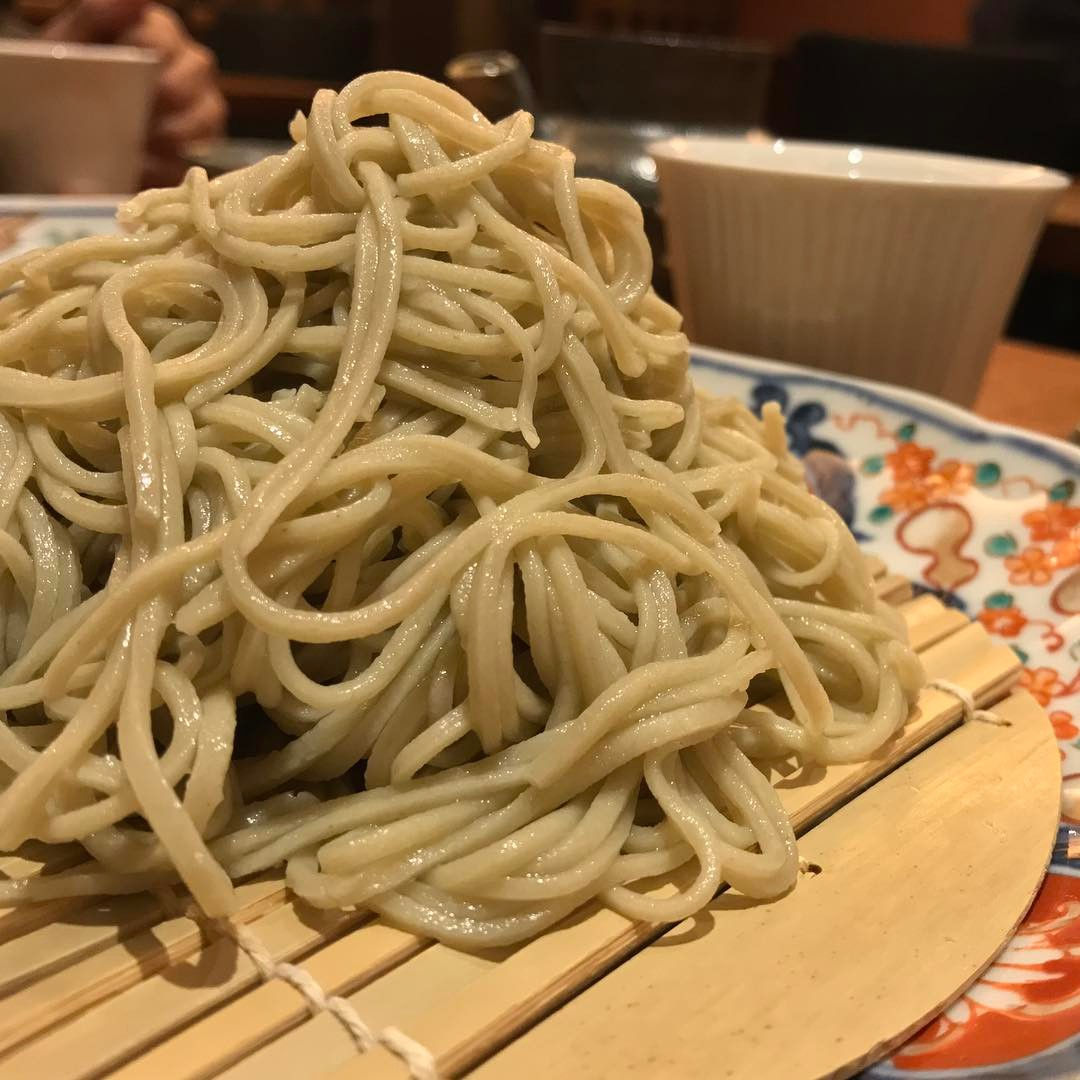Soba: (1, 67, 894, 924)
